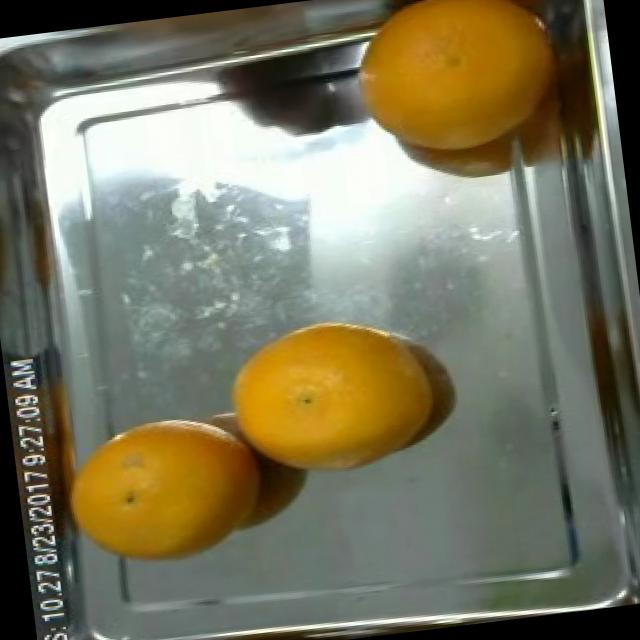Fruit: (37, 396, 282, 588), (206, 305, 428, 493)
